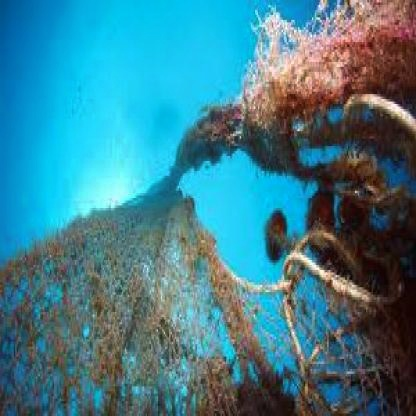net: (5, 22, 404, 416)
